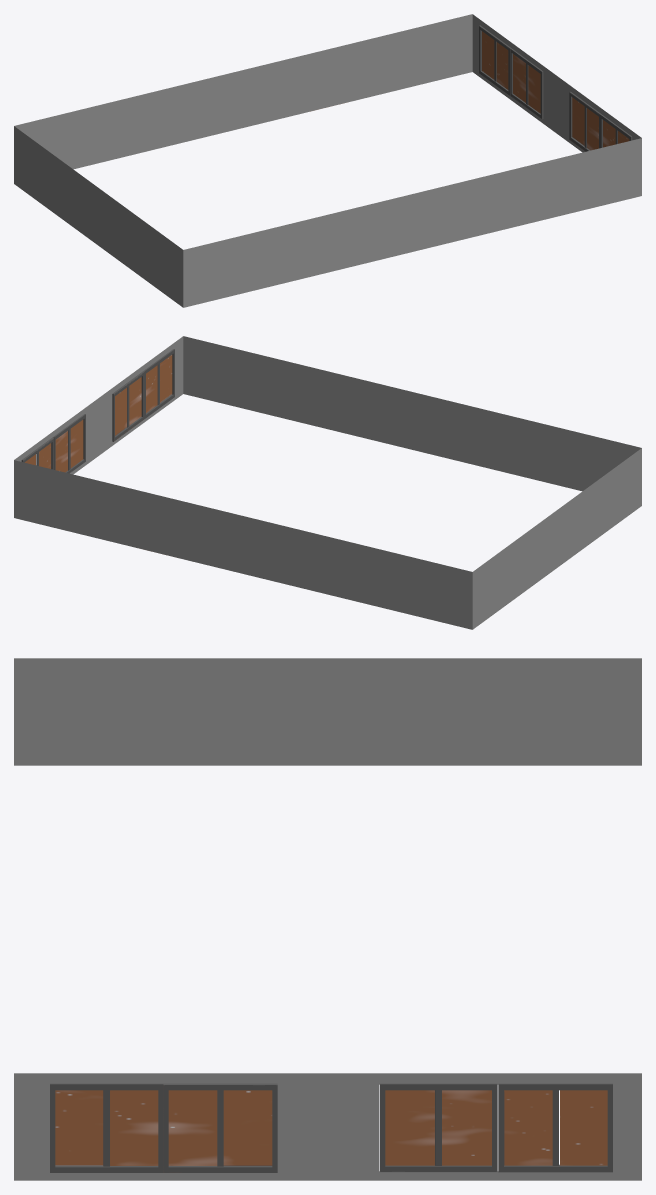
Rendered from office evening kabe.fbx.
The picture shows the model from 3 angles, top to bottom: view 1: azimuth 30°, elevation 25°; view 2: azimuth 150°, elevation 25°; view 3: azimuth 270°, elevation 25°; orthographic projection. The views are drawn at different scales.
Parts seen in each view (by area): view 1: kabe; view 2: kabe; view 3: kabe.
Part boxes in pixels (x1,y1,x2,y2): kabe: [14, 14, 641, 307]; kabe: [14, 336, 641, 629]; kabe: [14, 658, 641, 1180].
Size of the model in its own units: 2458 by 296 by 1570.
